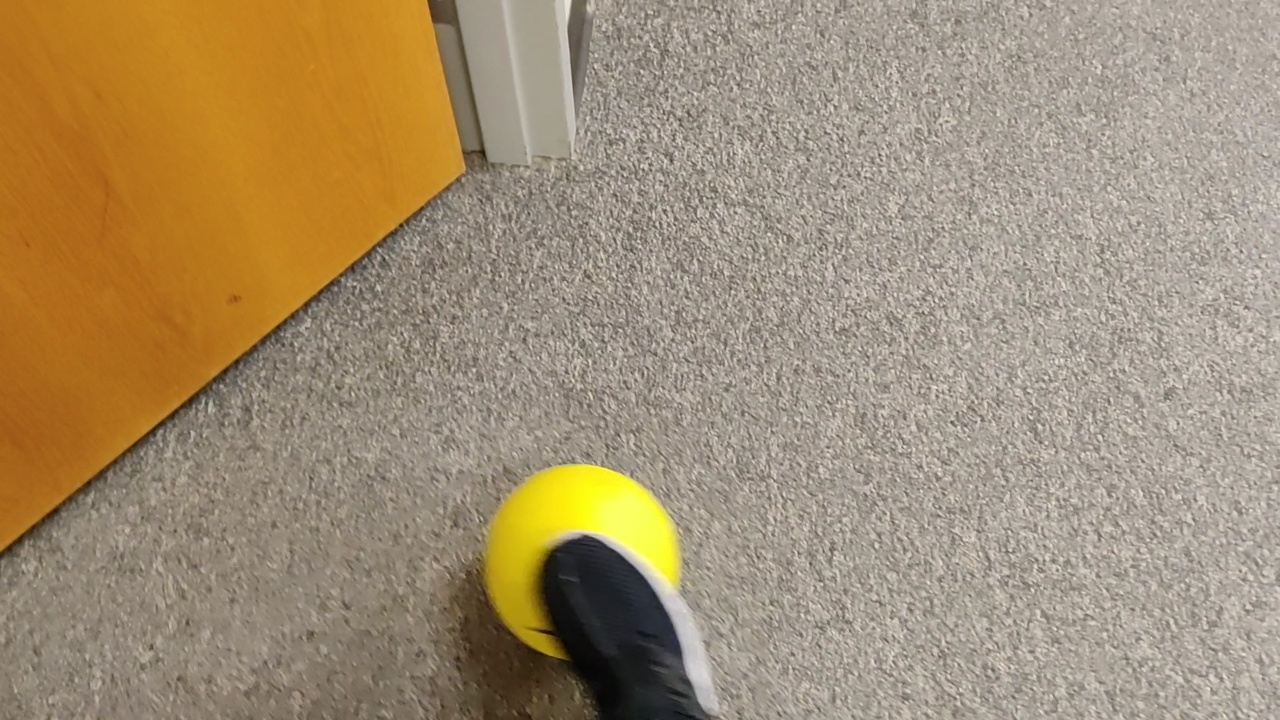Ball: (491, 466, 692, 659)
